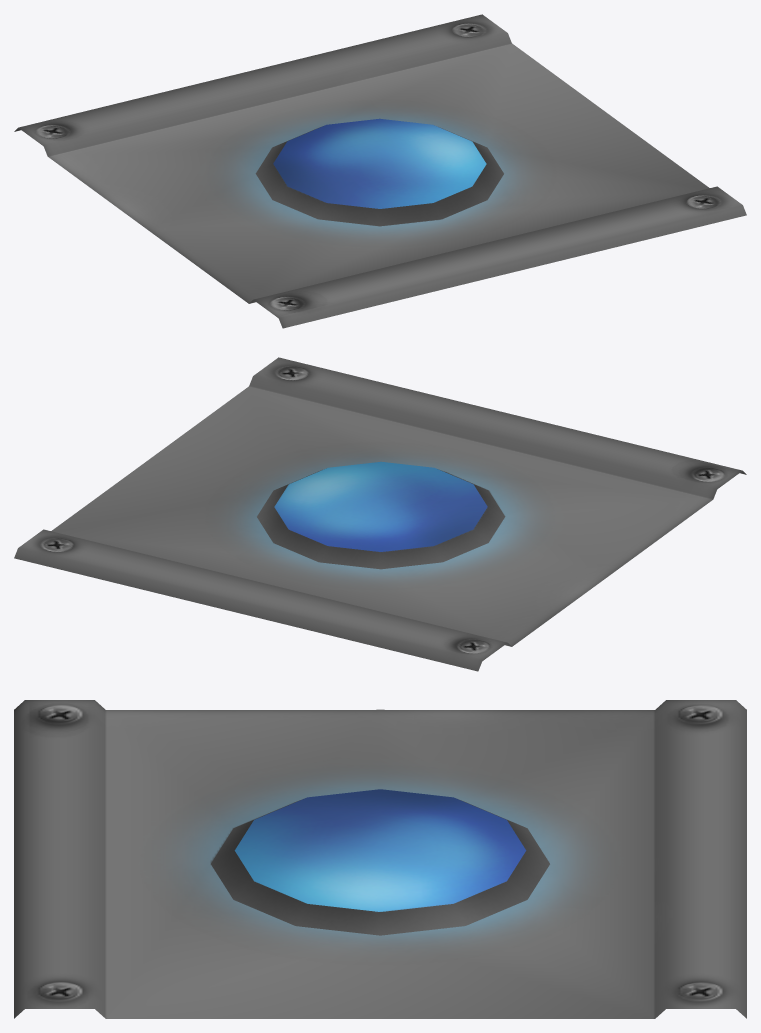
Rendered from Light_1.FBX.
3 renders of one model, top to bottom at view 1: azimuth 30°, elevation 25°; view 2: azimuth 150°, elevation 25°; view 3: azimuth 270°, elevation 25°, orthographic. The views are drawn at different scales.
Parts seen in each view (by area): view 1: Light_1; view 2: Light_1; view 3: Light_1.
Boxes of the visible parts, x1,y1,x2,y2 form: Light_1: [14, 14, 746, 328]; Light_1: [14, 357, 746, 671]; Light_1: [14, 700, 746, 1018].
Size of the model in its own units: 70.01 by 2.33 by 70.15.
Materials: 1 (1 with a texture image).
